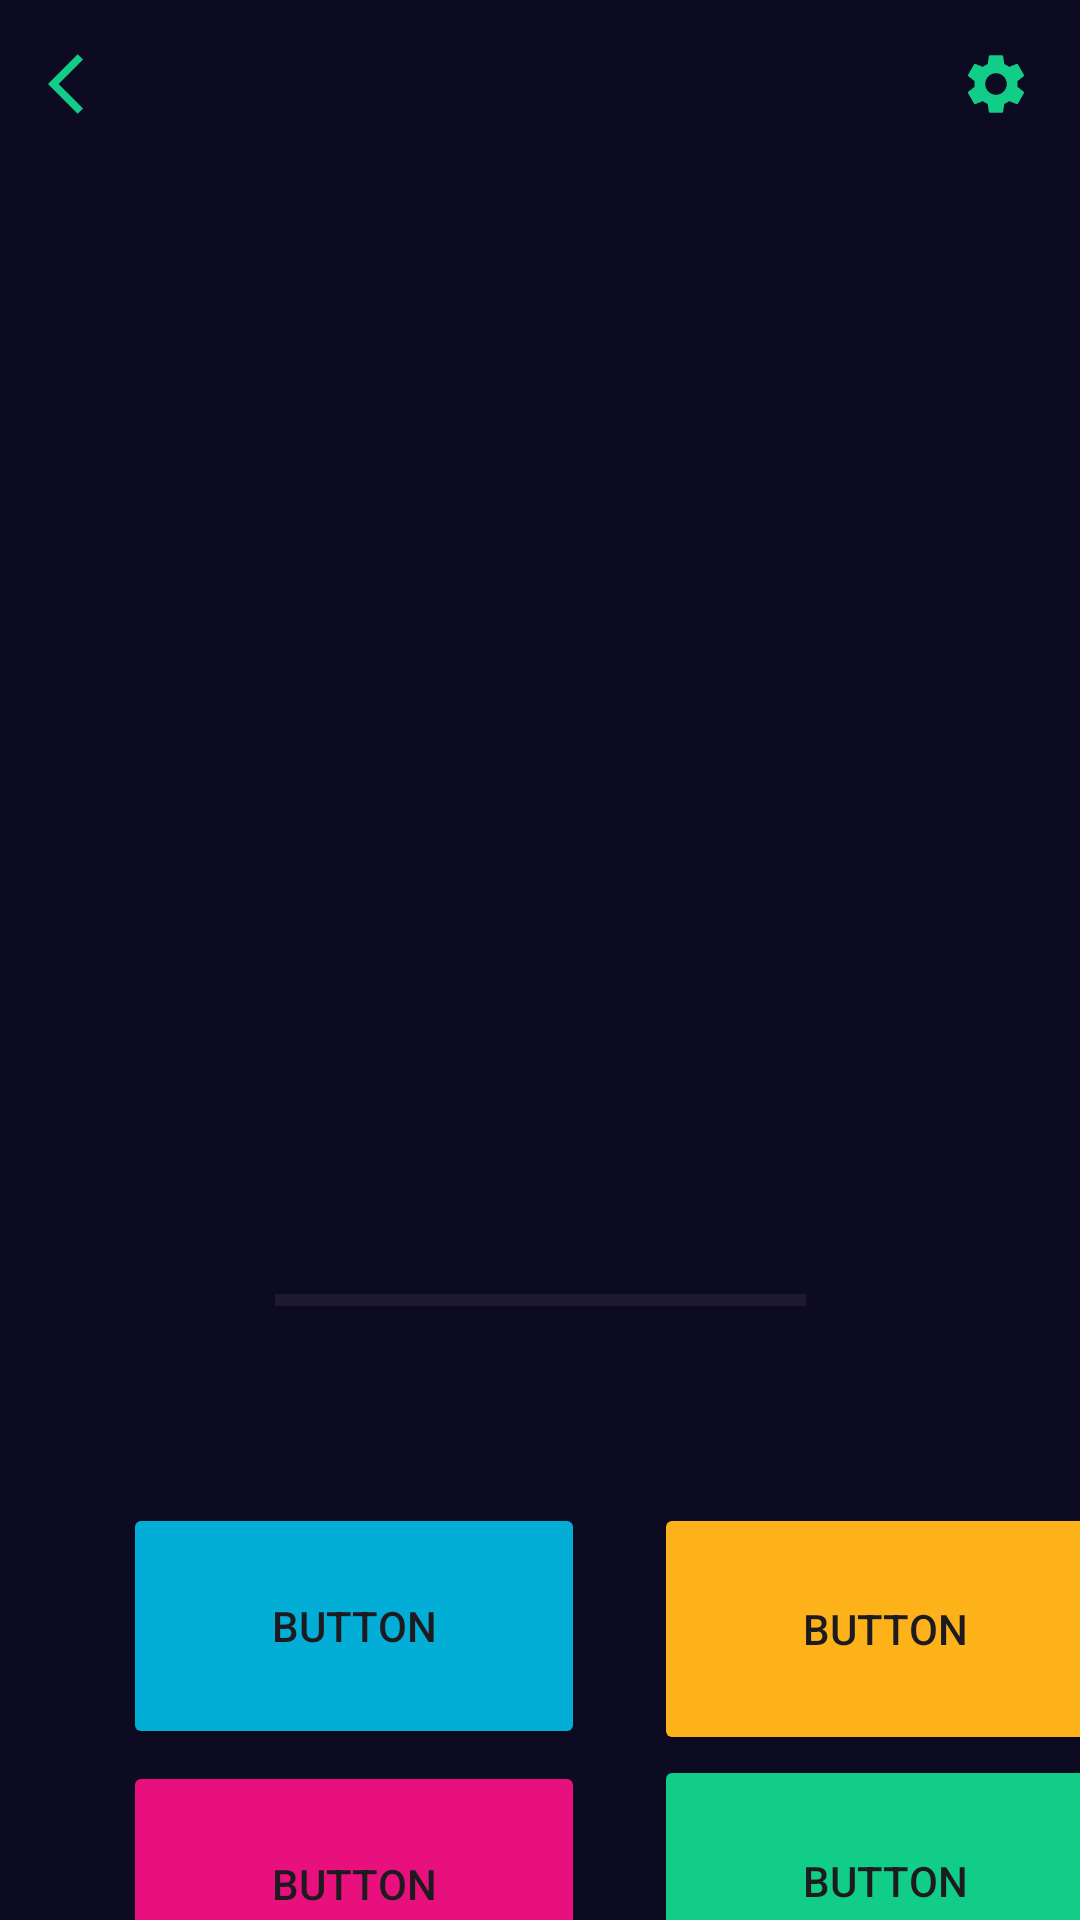

Icon bounding boxes for this 1080w x 1920h phone screenshot, format box=[x1, y1, x2, y2]:
arrow back: box=[48, 54, 83, 114]
settings: box=[968, 55, 1024, 113]
